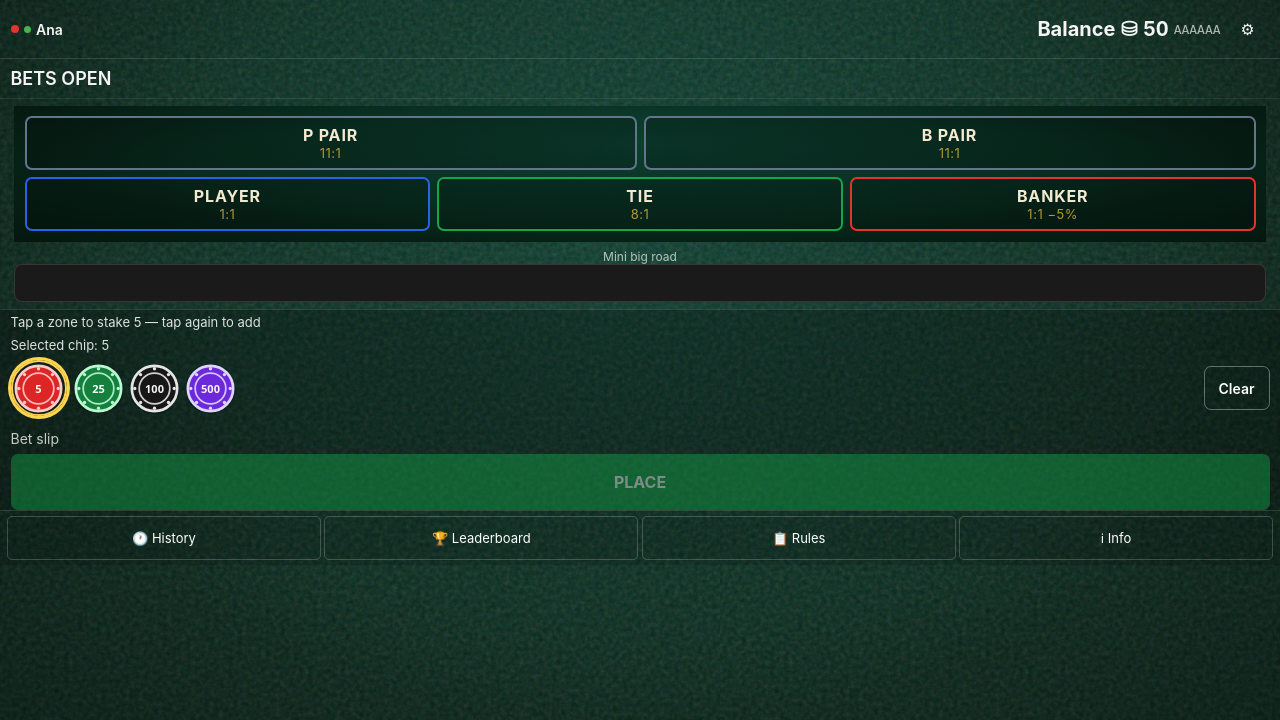
Test: PlayerShell › shows insufficient bankroll toast
Click the button with test id "chip-denom-100".
click(154, 388)  # box [130, 364, 178, 413]
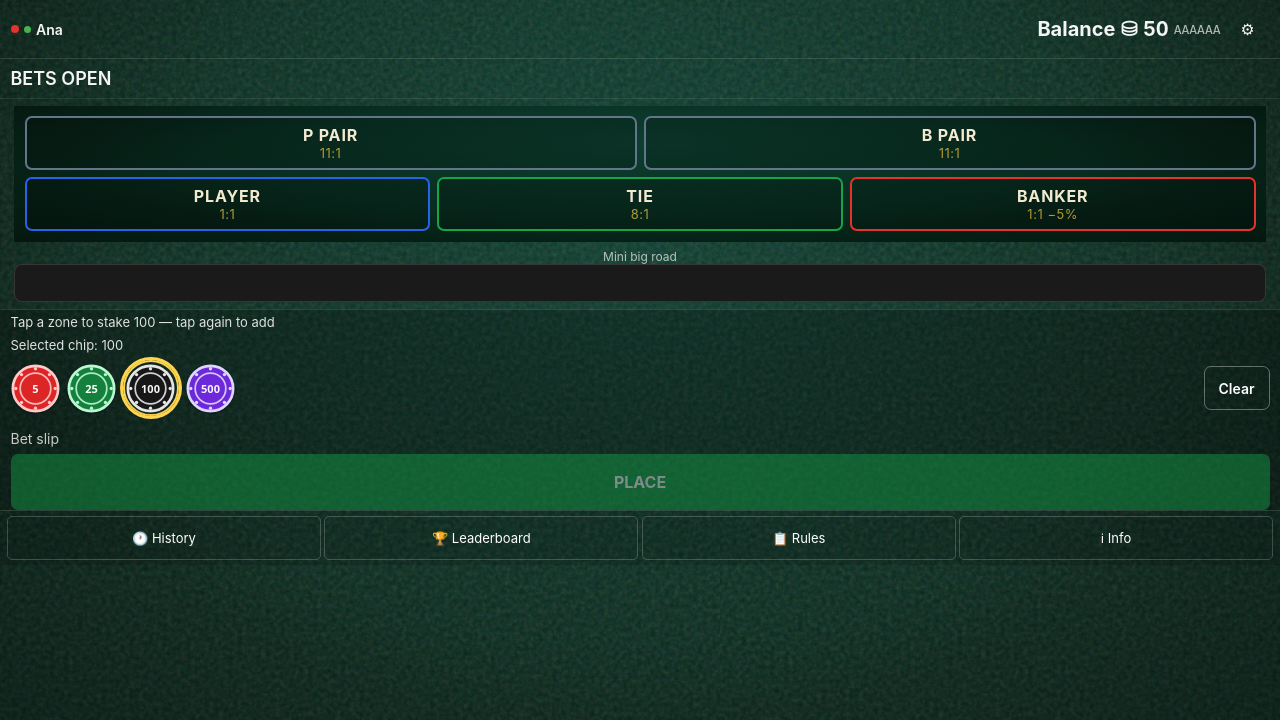
Press the mouse on the button with test id "felt-zone-banker" at (1053, 204), box [850, 177, 1256, 231]
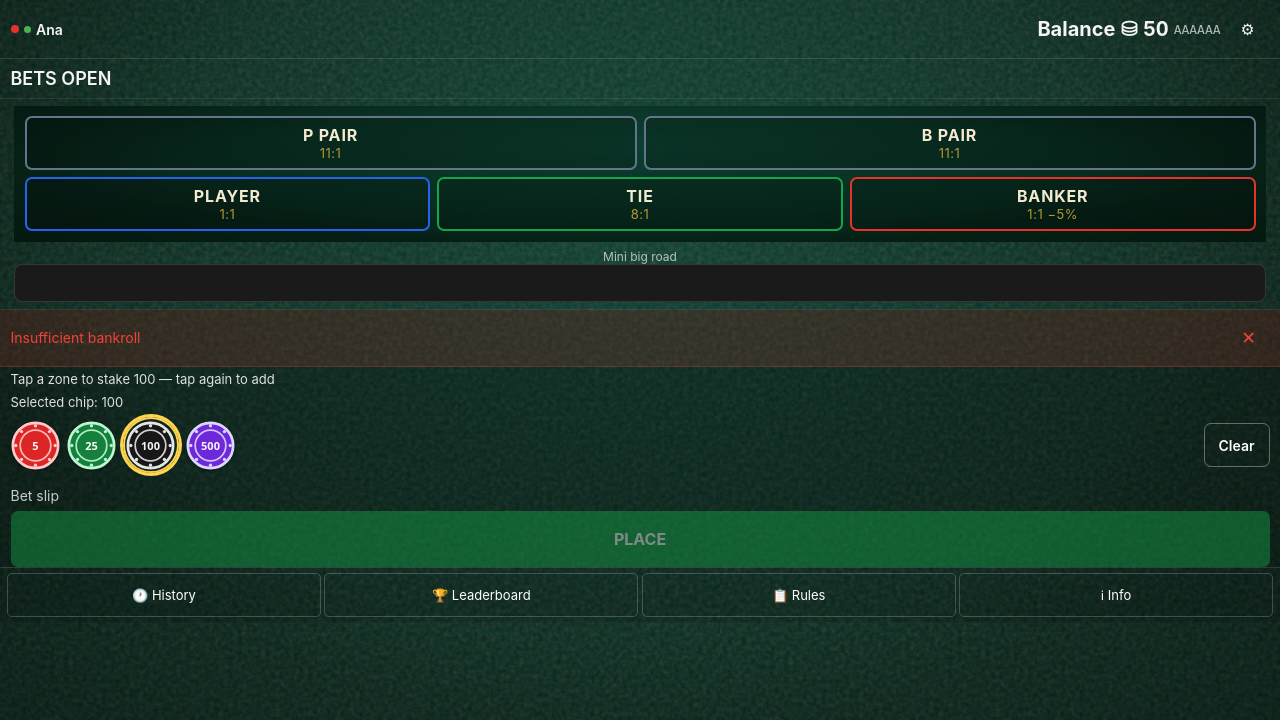
Result: the message with test id "player-toast" shows "Insufficient" at [10, 329, 140, 346]
